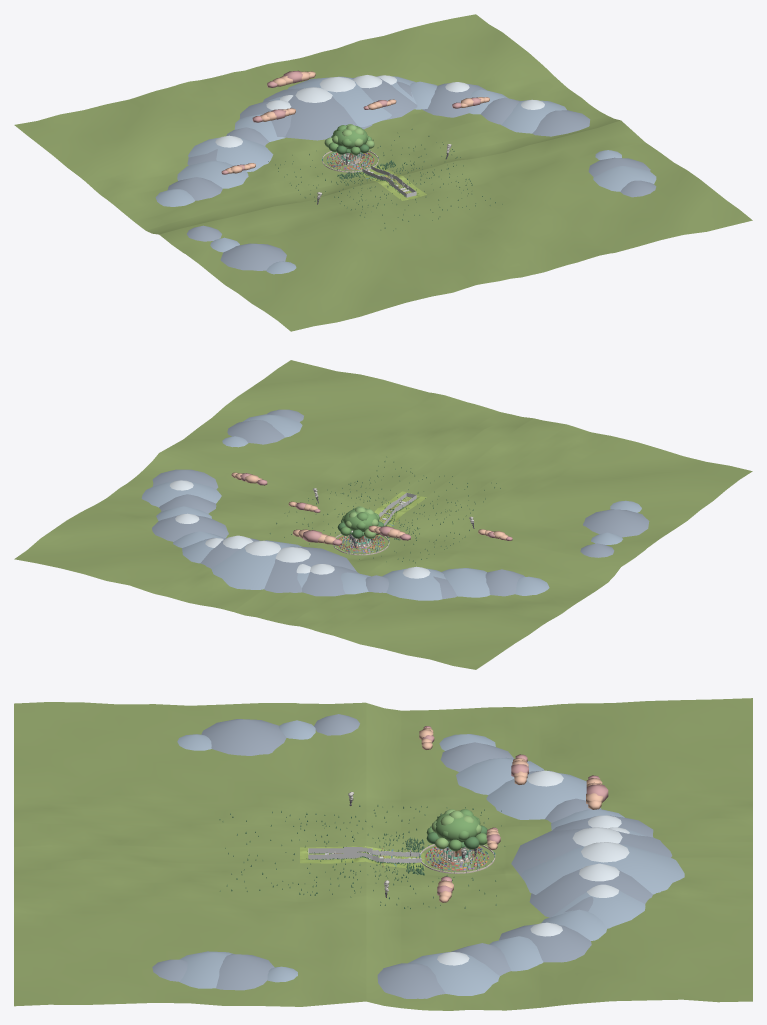
Rendered from m9_assault.glb.
3 views of the same model, one above another, from view 1: azimuth 30°, elevation 25°; view 2: azimuth 150°, elevation 25°; view 3: azimuth 270°, elevation 25° (orthographic). The views are drawn at different scales.
Visible parts, largest first — view 1: ground_far, erpien_mount_d_far, erpien_mount_far, erpien_mount_l_far, sky_cloud_p_far, sky_cloud_s_far, erpien_eld_leaf_far; view 2: ground_far, erpien_mount_d_far, erpien_mount_far, erpien_mount_l_far, sky_cloud_p_far, sky_cloud_s_far, erpien_eld_leaf_far; view 3: ground_far, erpien_mount_far, erpien_mount_d_far, erpien_mount_l_far, sky_cloud_p_far, erpien_eld_leaf_far, sky_cloud_s_far, erpien_erk_wall_far, ground_north, erpien_eld_leaf_l_far.
Part boxes in pixels (box(x1,y1,x2,y2)): ground_far: box(14, 14, 752, 331); erpien_mount_d_far: box(167, 77, 656, 270); erpien_mount_far: box(155, 75, 656, 274); erpien_mount_l_far: box(215, 75, 544, 147); sky_cloud_p_far: box(225, 71, 489, 173); sky_cloud_s_far: box(221, 70, 481, 174); erpien_eld_leaf_far: box(328, 125, 372, 155); ground_far: box(14, 360, 752, 669); erpien_mount_d_far: box(152, 409, 649, 599); erpien_mount_far: box(141, 414, 641, 600); erpien_mount_l_far: box(169, 480, 430, 578); sky_cloud_p_far: box(231, 472, 508, 544); sky_cloud_s_far: box(240, 473, 512, 545); erpien_eld_leaf_far: box(340, 508, 379, 535); ground_far: box(14, 698, 752, 1010); erpien_mount_far: box(177, 720, 684, 995); erpien_mount_d_far: box(152, 714, 672, 998); erpien_mount_l_far: box(437, 770, 629, 965); sky_cloud_p_far: box(419, 727, 603, 902); erpien_eld_leaf_far: box(426, 809, 487, 851); sky_cloud_s_far: box(423, 726, 608, 895); erpien_erk_wall_far: box(422, 844, 495, 873); ground_north: box(329, 846, 424, 869); erpien_eld_leaf_l_far: box(431, 809, 481, 849).
Bounding box in the file's own units: 5200 × 565 × 5400.
